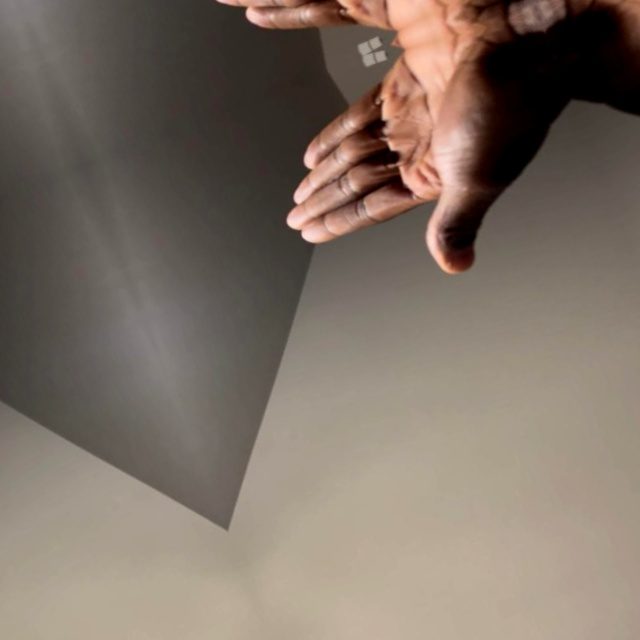Paper: (529, 0, 640, 230)
